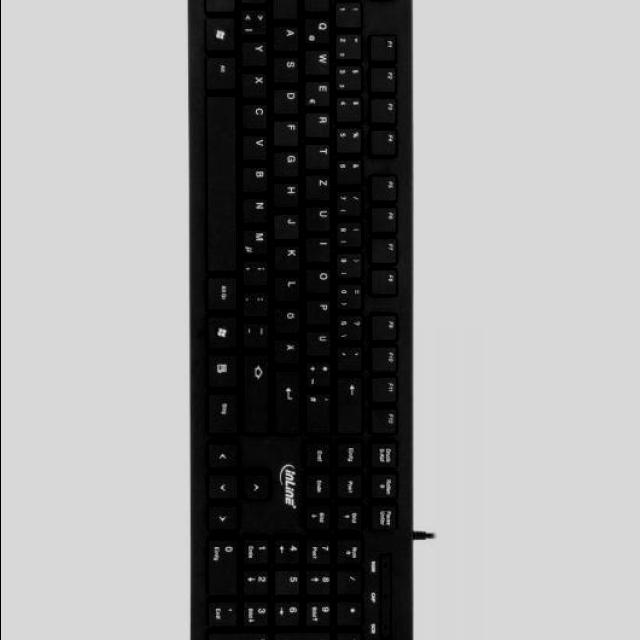0: (338, 279, 366, 307)
1: (337, 0, 365, 25)
2: (337, 29, 365, 58)
3: (337, 61, 365, 90)
4: (337, 93, 366, 121)
5: (337, 123, 365, 151)
6: (337, 155, 366, 183)
7: (337, 186, 366, 214)
8: (337, 217, 366, 245)
9: (338, 249, 366, 277)
a: (274, 21, 303, 50)
accent: (338, 342, 366, 370)
ae: (276, 335, 305, 363)
alt-left: (208, 52, 240, 88)
altgr-right: (209, 273, 241, 308)
b: (244, 162, 273, 190)
c: (244, 99, 272, 127)
caret: (337, 0, 363, 4)
comma: (244, 256, 273, 284)
d: (274, 85, 303, 111)
del: (338, 373, 367, 431)
e: (306, 78, 335, 104)
enter: (276, 366, 305, 431)
f: (275, 116, 303, 142)
g: (275, 147, 303, 175)
h: (275, 179, 303, 205)
hash: (307, 389, 335, 431)
i: (307, 234, 335, 260)
j: (275, 209, 303, 237)
k: (275, 240, 303, 268)
keyboard: (189, 0, 415, 640)
l: (275, 272, 303, 300)
less: (243, 5, 272, 34)
m: (243, 225, 273, 253)
minus: (245, 318, 273, 346)
n: (244, 193, 272, 221)
o: (307, 263, 335, 291)
oe: (275, 303, 303, 331)
p: (307, 295, 335, 323)
plus: (307, 358, 335, 386)
point: (245, 288, 273, 316)
q: (306, 12, 335, 42)
r: (307, 108, 335, 136)
s: (274, 53, 303, 81)
shift-left: (243, 0, 269, 7)
shift-lock: (274, 0, 302, 17)
shift-right: (245, 350, 273, 431)
space: (208, 92, 242, 270)
ss: (338, 311, 366, 340)
strg-left: (207, 0, 240, 13)
strg-right: (209, 388, 241, 434)
t: (307, 141, 335, 167)
tab: (306, 0, 334, 11)
u: (306, 202, 335, 230)
ue: (307, 326, 335, 354)
v: (244, 131, 272, 159)
w: (306, 45, 335, 74)
x: (243, 69, 272, 97)
y: (243, 38, 271, 66)
z: (307, 170, 335, 198)
